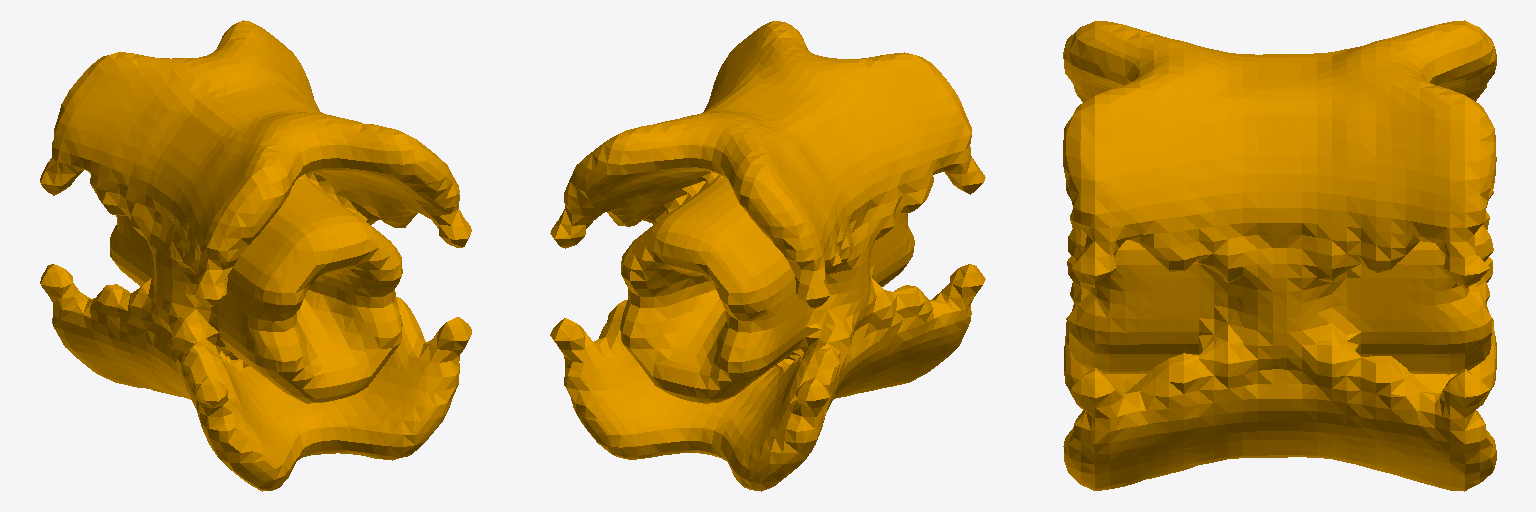
The robot description file, URDF, robot "O18_1":
<?xml version="1.0"?>
<robot name="O18_1">
  <link name="base_link">
    <visual>
      <geometry>
        <mesh filename="../../../../meshes/egad/train/O18_1.obj" />
      </geometry>
    </visual>
  </link>
</robot>

--- Facts derived from the render (not from the file) ---
3 views of the same robot in one strip: view 1: azimuth 30°, elevation 25°; view 2: azimuth 150°, elevation 25°; view 3: azimuth 270°, elevation 25° (orthographic).
Robot: O18_1 — 1 links, 0 joints (none); root link base_link; default pose: every joint at zero.
Visible links, largest first — view 1: base_link; view 2: base_link; view 3: base_link.
Boxes of the visible links, x1,y1,x2,y2 form: base_link: (40, 20, 471, 491); base_link: (550, 21, 985, 491); base_link: (1063, 20, 1496, 491).
Bounding box of the posed robot: 0.0602 × 0.0679 × 0.069 m (x, y, z).
1 mesh visuals loaded from 1 distinct referenced files (1 OBJ).